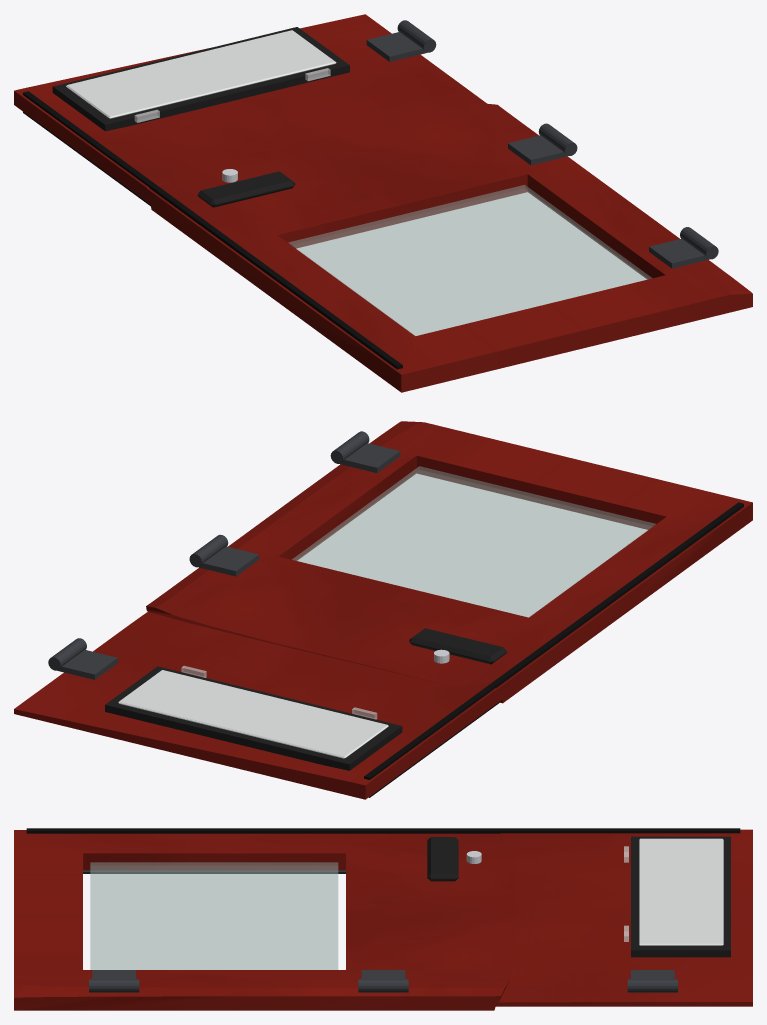
The model's file is porta_traseira_e_van.glb.
3 renders of one model, top to bottom at view 1: azimuth 30°, elevation 25°; view 2: azimuth 150°, elevation 25°; view 3: azimuth 270°, elevation 25°, orthographic. The views are drawn at different scales.
Parts seen in each view (by area): view 1: porta_traseira_e_van_pintura, porta_traseira_e_van_vidro, porta_traseira_e_van_placa, porta_traseira_e_van_plastico_preto, porta_traseira_e_van_aco_escuro, porta_traseira_e_van_borracha; view 2: porta_traseira_e_van_pintura, porta_traseira_e_van_vidro, porta_traseira_e_van_placa, porta_traseira_e_van_plastico_preto, porta_traseira_e_van_aco_escuro, porta_traseira_e_van_borracha; view 3: porta_traseira_e_van_pintura, porta_traseira_e_van_vidro, porta_traseira_e_van_placa, porta_traseira_e_van_plastico_preto, porta_traseira_e_van_aco_escuro, porta_traseira_e_van_borracha.
Boxes of the visible parts, x1,y1,x2,y2 form: porta_traseira_e_van_pintura: [14, 14, 752, 392]; porta_traseira_e_van_vidro: [288, 185, 651, 335]; porta_traseira_e_van_placa: [66, 30, 336, 118]; porta_traseira_e_van_plastico_preto: [52, 27, 349, 207]; porta_traseira_e_van_aco_escuro: [366, 20, 718, 268]; porta_traseira_e_van_borracha: [23, 91, 402, 369]; porta_traseira_e_van_pintura: [14, 421, 752, 799]; porta_traseira_e_van_vidro: [292, 466, 655, 617]; porta_traseira_e_van_placa: [118, 670, 388, 758]; porta_traseira_e_van_plastico_preto: [105, 628, 506, 770]; porta_traseira_e_van_aco_escuro: [48, 431, 400, 679]; porta_traseira_e_van_borracha: [364, 502, 743, 797]; porta_traseira_e_van_pintura: [14, 829, 752, 1010]; porta_traseira_e_van_vidro: [90, 862, 338, 969]; porta_traseira_e_van_placa: [639, 838, 723, 945]; porta_traseira_e_van_plastico_preto: [427, 836, 730, 957]; porta_traseira_e_van_aco_escuro: [83, 870, 677, 992]; porta_traseira_e_van_borracha: [26, 828, 740, 833].
Bounding box in the file's own units: 0.627 × 0.074 × 1.18.
Materials: 9 (1 with a texture image).
